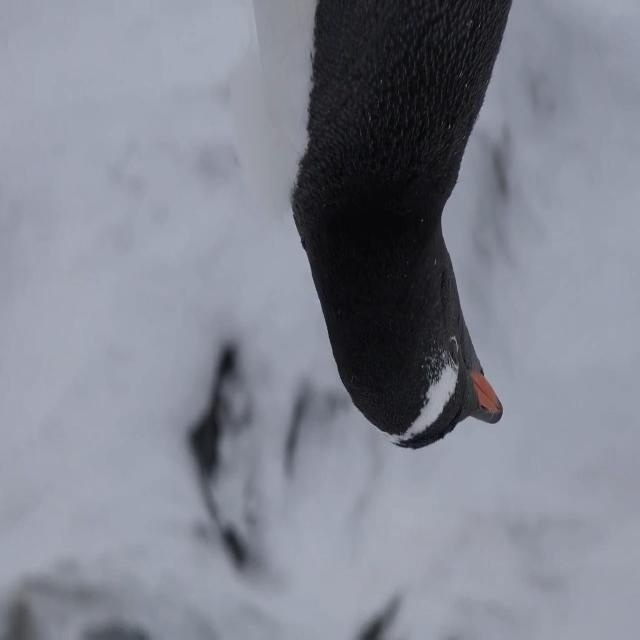penguin: (247, 1, 512, 451)
